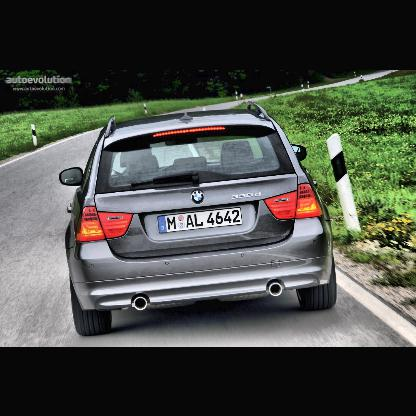BMW 3 Series Wagon 2012: (60, 101, 339, 339)
